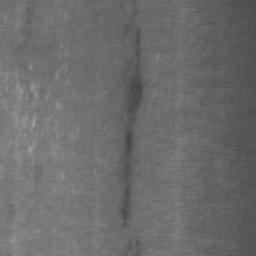Inclusion: (122, 65, 143, 223)
